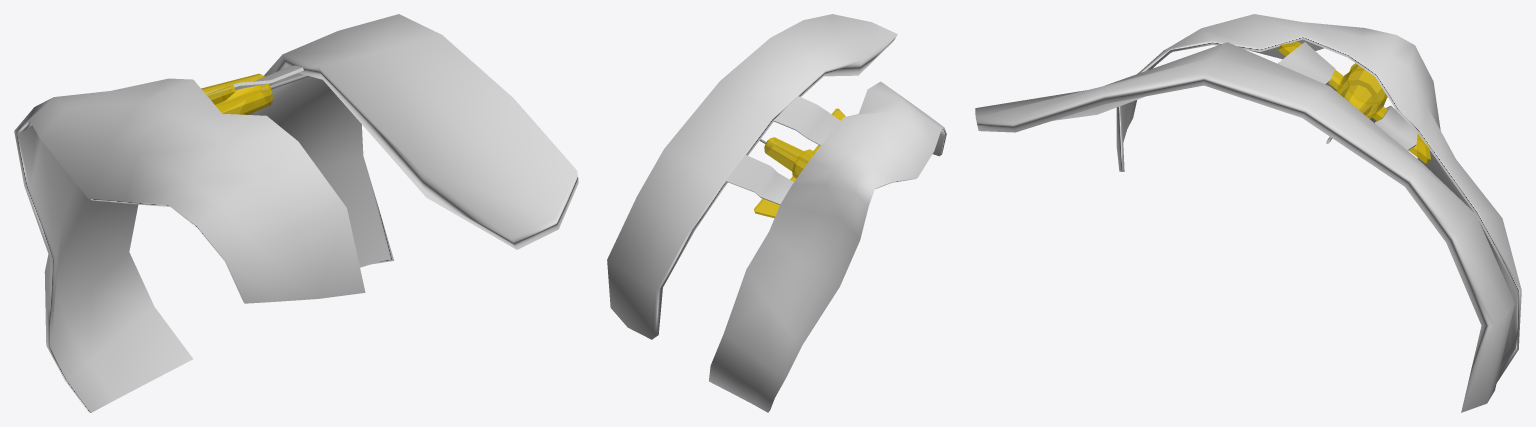
File: kimtruyentayphai.fbx
The picture shows the model from 3 angles, left to right: view 1: azimuth 30°, elevation 25°; view 2: azimuth 150°, elevation 25°; view 3: azimuth 270°, elevation 25°; orthographic projection. The views are drawn at different scales.
Parts seen in each view (by area): view 1: bangdinh1, bangdinh, ongvang, bangdinh2; view 2: bangdinh1, bangdinh, bangdinh2, ongvang; view 3: bangdinh, bangdinh1, ongvang, bangdinh2.
Part boxes in pixels (x1,y1,x2,y2): bangdinh1: (14,78,365,412); bangdinh: (248,14,578,267); ongvang: (201,73,272,114); bangdinh2: (206,65,303,98); bangdinh1: (709,81,946,412); bangdinh: (607,14,897,339); bangdinh2: (726,96,840,204); ongvang: (753,108,845,218); bangdinh: (975,42,1514,412); bangdinh1: (1116,14,1521,382); ongvang: (1278,41,1430,163); bangdinh2: (1278,42,1417,150).
Size of the model in its own units: 1.45 by 1.54 by 2.05.
